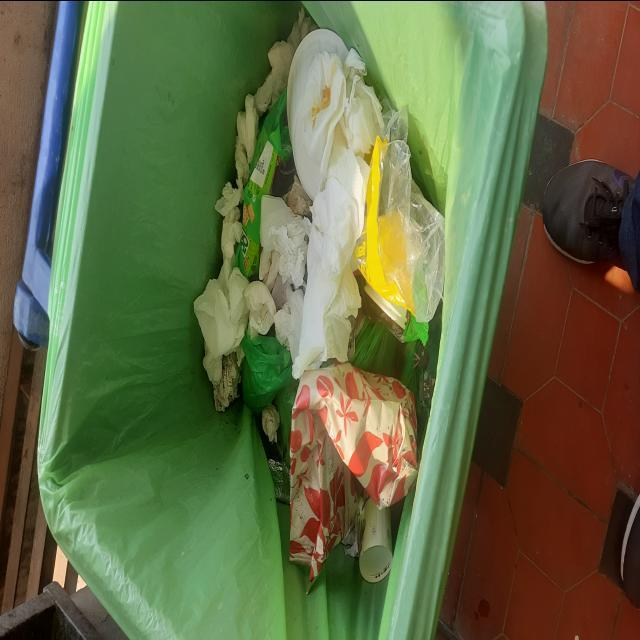Disposable: (288, 27, 348, 200)
Garbage: (194, 8, 445, 584)
Plastic_Bag: (354, 111, 445, 322), (241, 333, 292, 411), (351, 317, 404, 376), (276, 373, 299, 465)
Plastic_wraper: (235, 89, 291, 276), (379, 308, 429, 344), (284, 173, 312, 216), (269, 457, 290, 503)
